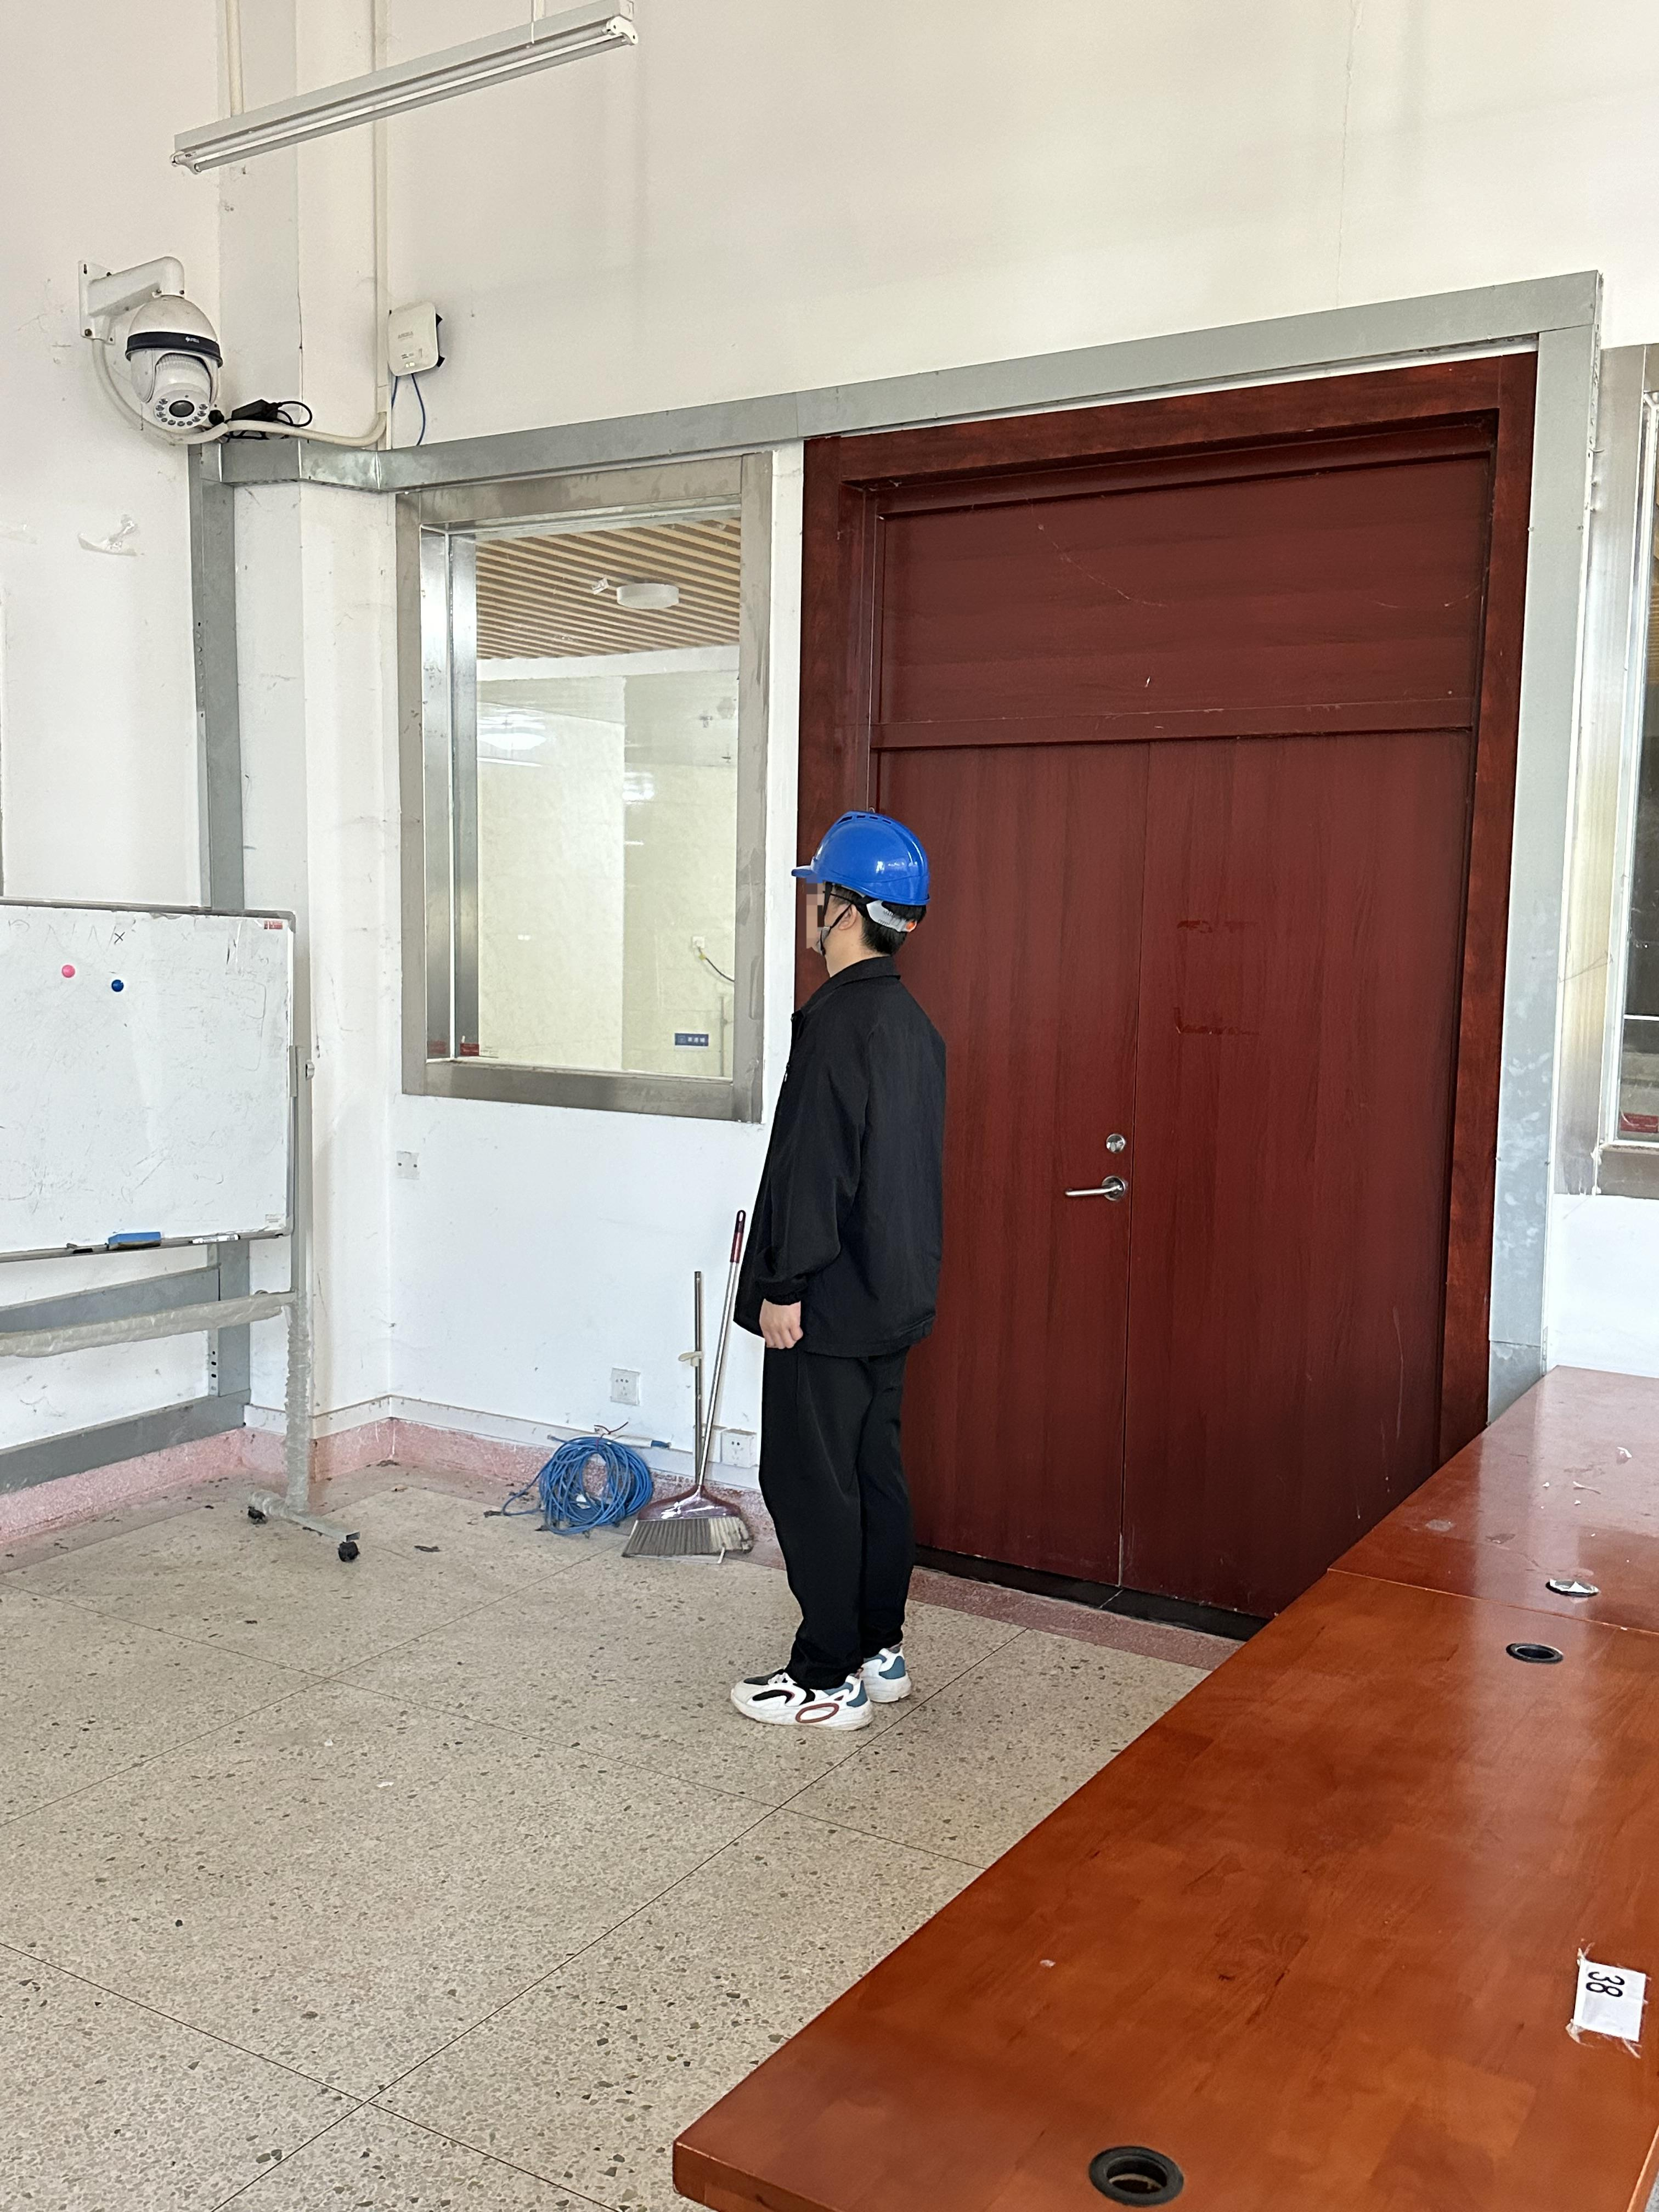halt: (782, 820, 934, 972)
outear: (810, 892, 861, 953)
